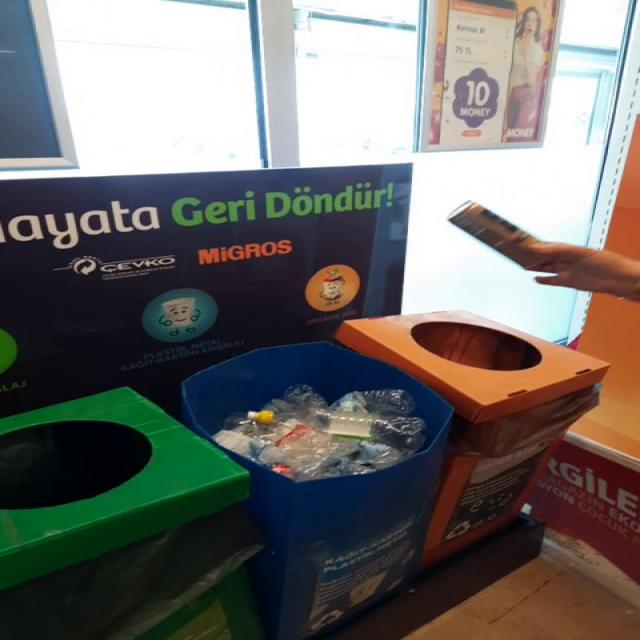metal: (449, 201, 543, 268)
